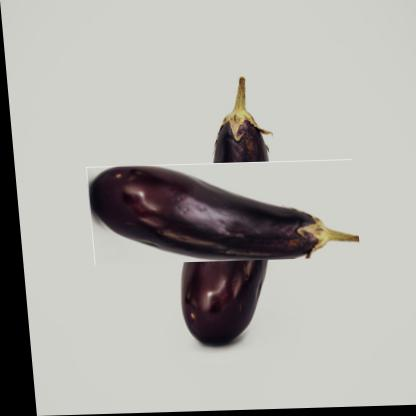eggplant: (122, 120, 318, 307)
